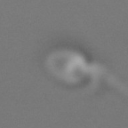abnormal: (86, 53, 128, 110)
